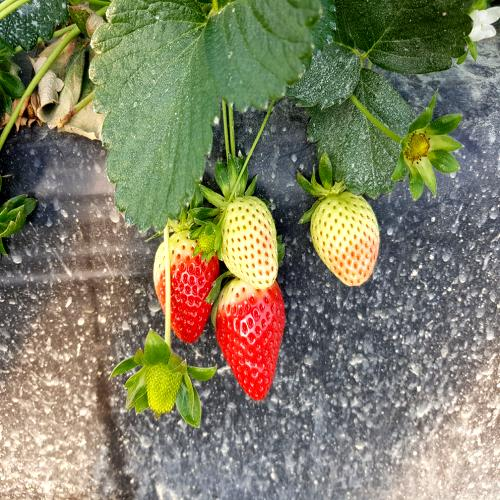partially-ripe: (207, 269, 289, 421), (150, 219, 214, 348), (311, 184, 381, 300)
